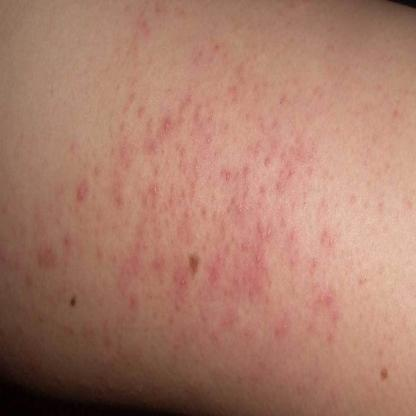Chicken Skin: (162, 100, 240, 310), (126, 125, 172, 281)
